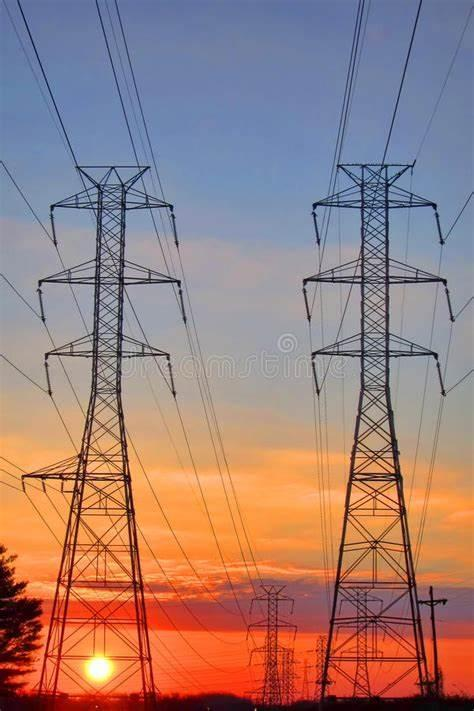power_tower: (296, 150, 466, 708), (36, 147, 193, 711), (241, 574, 302, 711)
